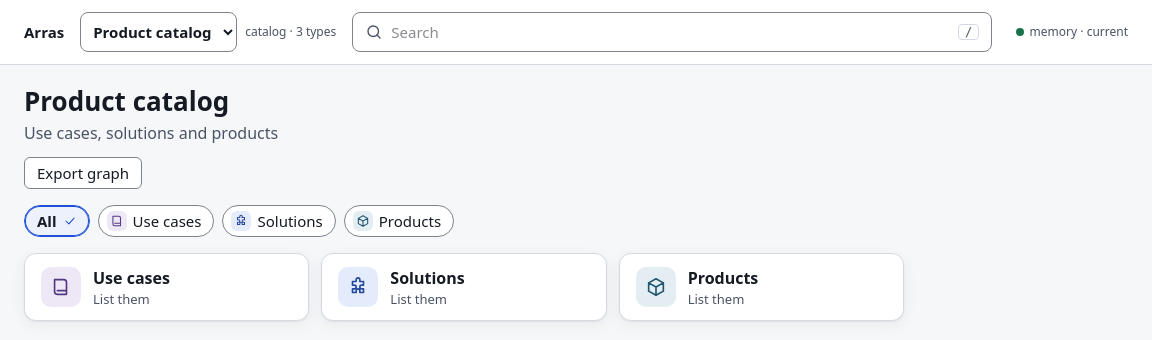
Test case: exporting the graph › saves nothing and says why when the export is refused
Click the button "Export graph". click: [83, 173]
box: [24,157,142,189]
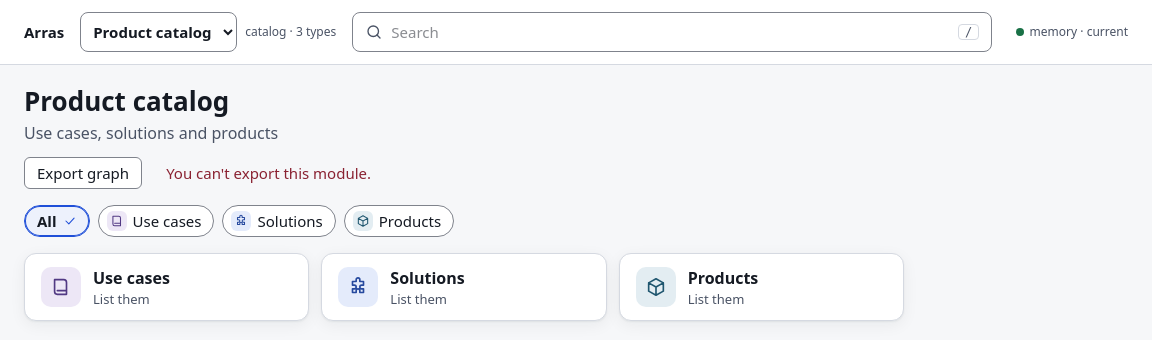
Check: the message reads "You can't export this module.", box [166,163,371,183]
